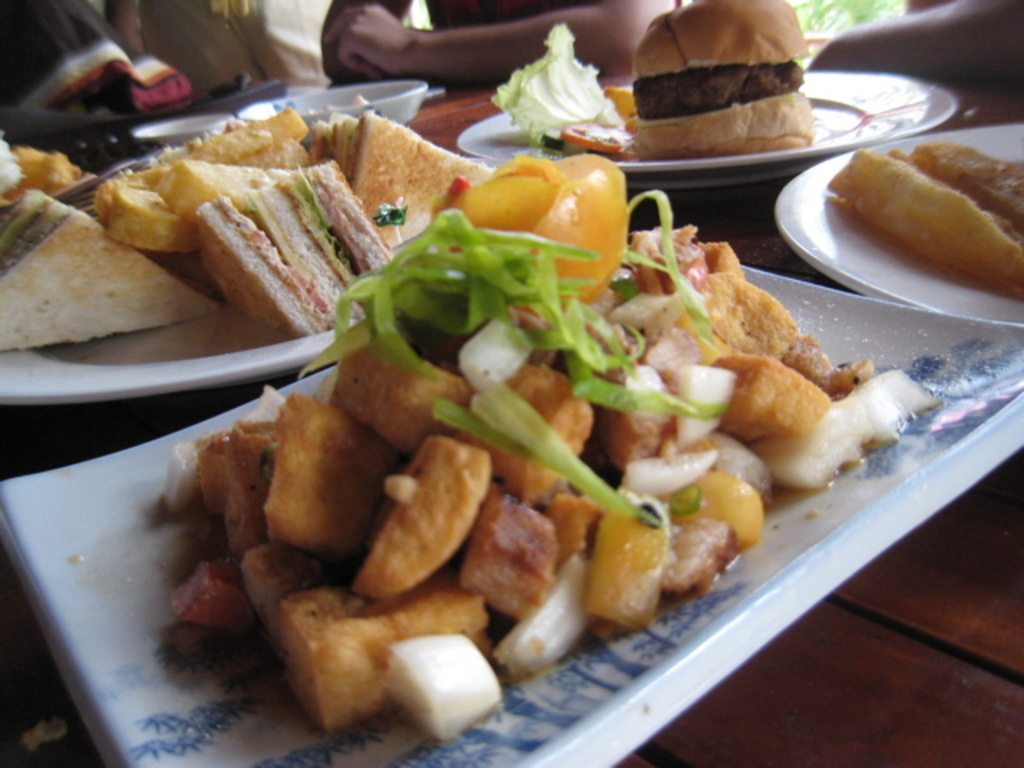Hamburger: (632, 0, 807, 168)
